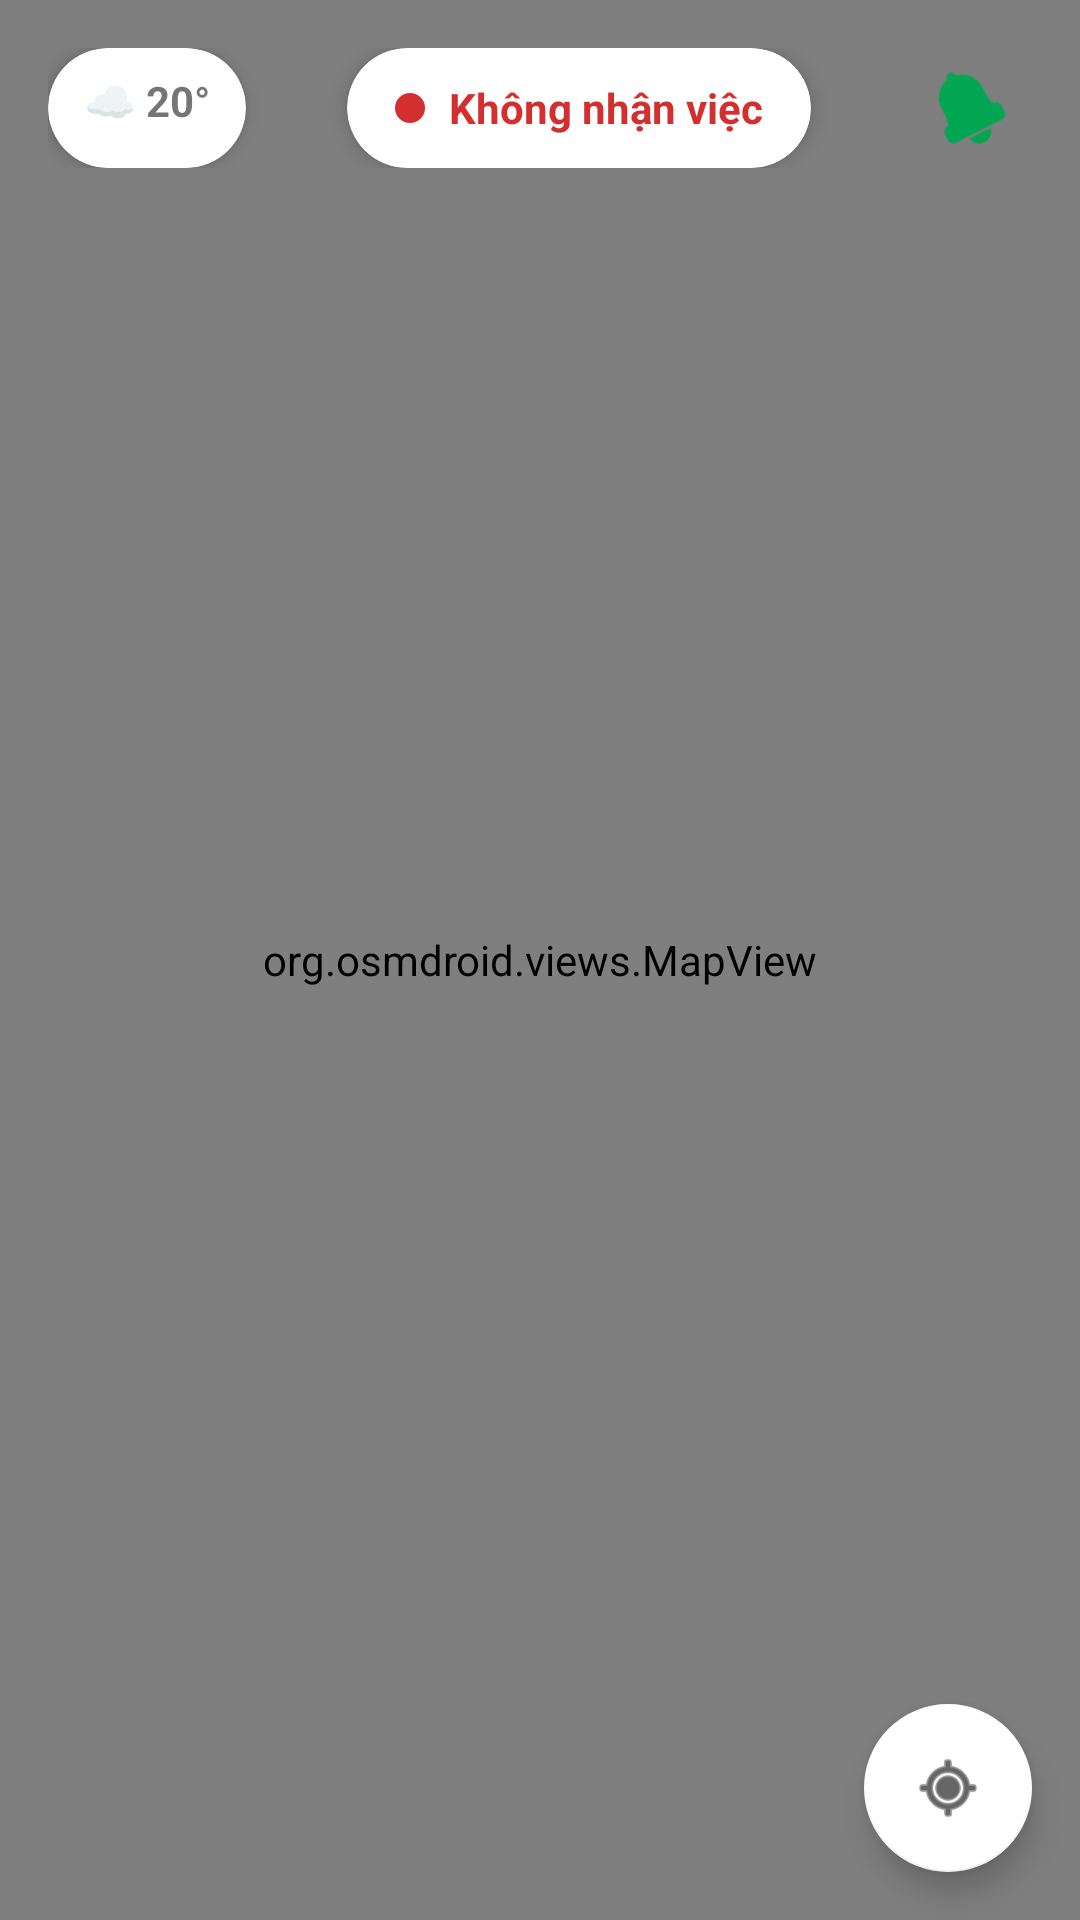

Locate icon controls on the screen. Image size 1080×1920, boxes as (x1, y1, x2, y2).
mylocation: (864, 1704, 1032, 1872)
popup reminder: (938, 72, 1006, 144)
